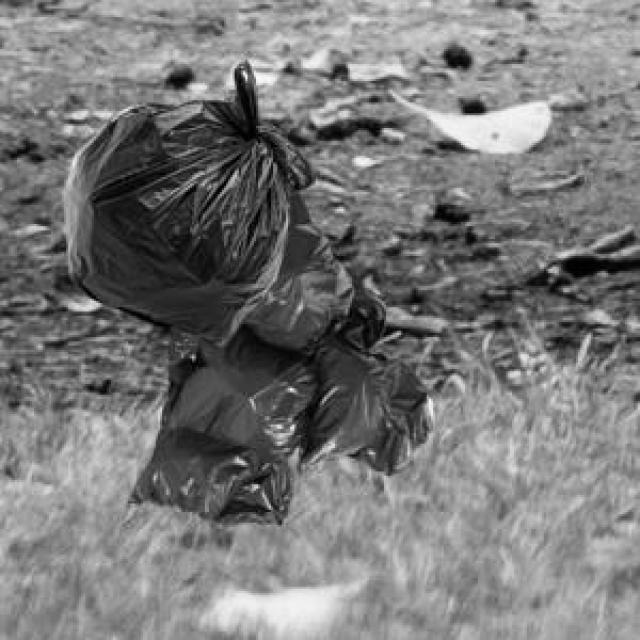miscellaneous trash: (124, 184, 431, 523), (60, 58, 312, 344), (150, 322, 196, 452)
